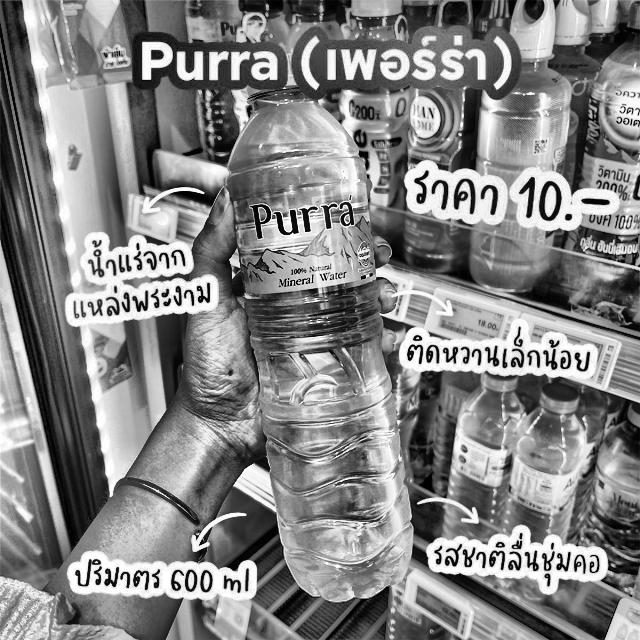waterbottle: (217, 45, 422, 608)
